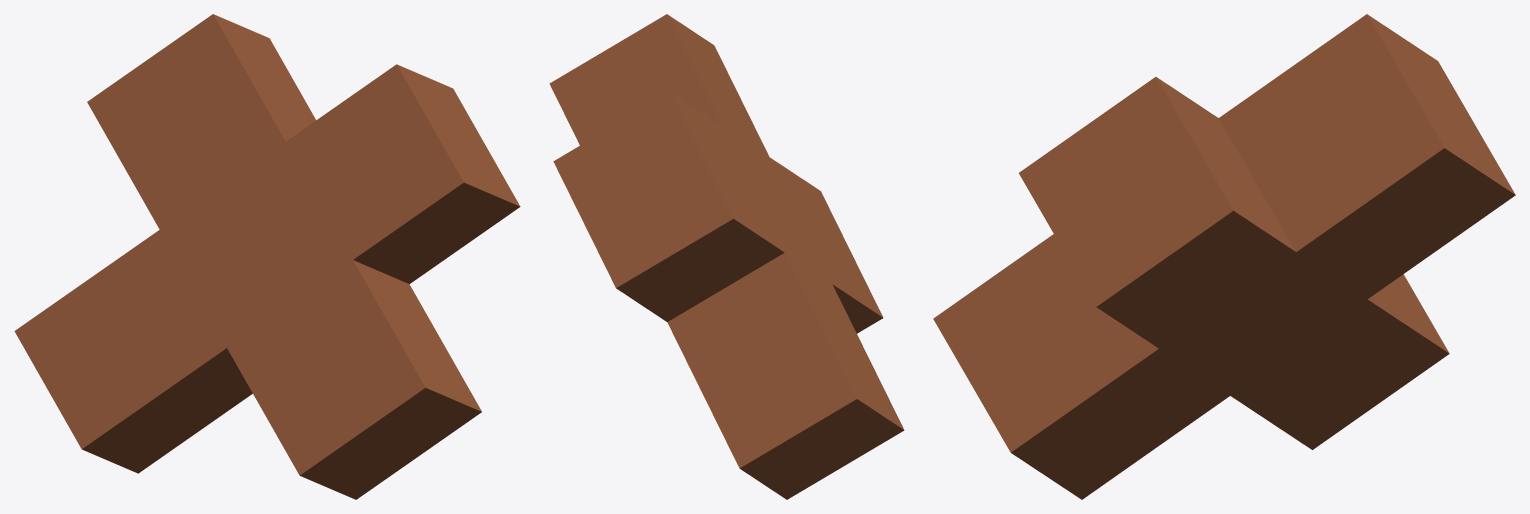
The model's file is ITEM X animado.fbx.
The picture shows the model from 3 angles, left to right: view 1: azimuth 30°, elevation 25°; view 2: azimuth 150°, elevation 25°; view 3: azimuth 270°, elevation 25°; orthographic projection. The views are drawn at different scales.
Parts seen in each view (by area): view 1: Cubo; view 2: Cubo; view 3: Cubo.
Part boxes in pixels (bbox=[...]): Cubo: bbox=[14, 14, 520, 499]; Cubo: bbox=[549, 14, 904, 499]; Cubo: bbox=[933, 14, 1515, 499].
Size of the model in its own units: 618 by 636 by 683.
